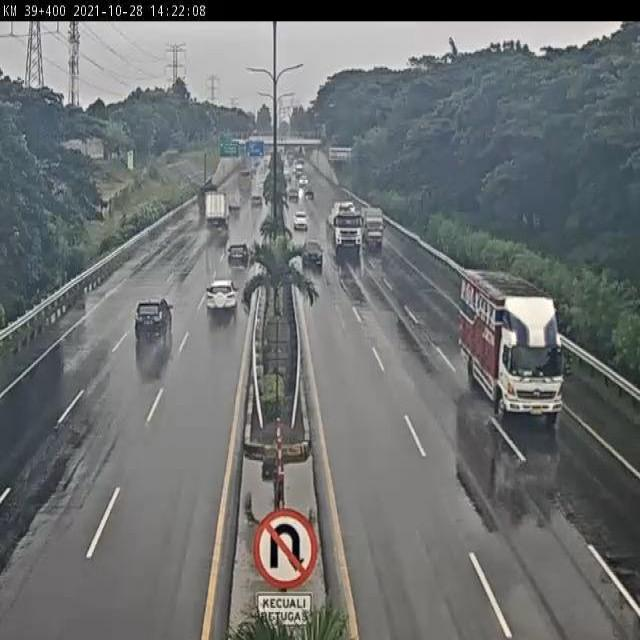car: (130, 292, 177, 344), (201, 275, 240, 321), (223, 238, 250, 270)
truck-l-: (460, 274, 563, 426), (205, 191, 229, 228)
truck-s-: (359, 201, 383, 251)
truck-xl-: (326, 196, 363, 253)
